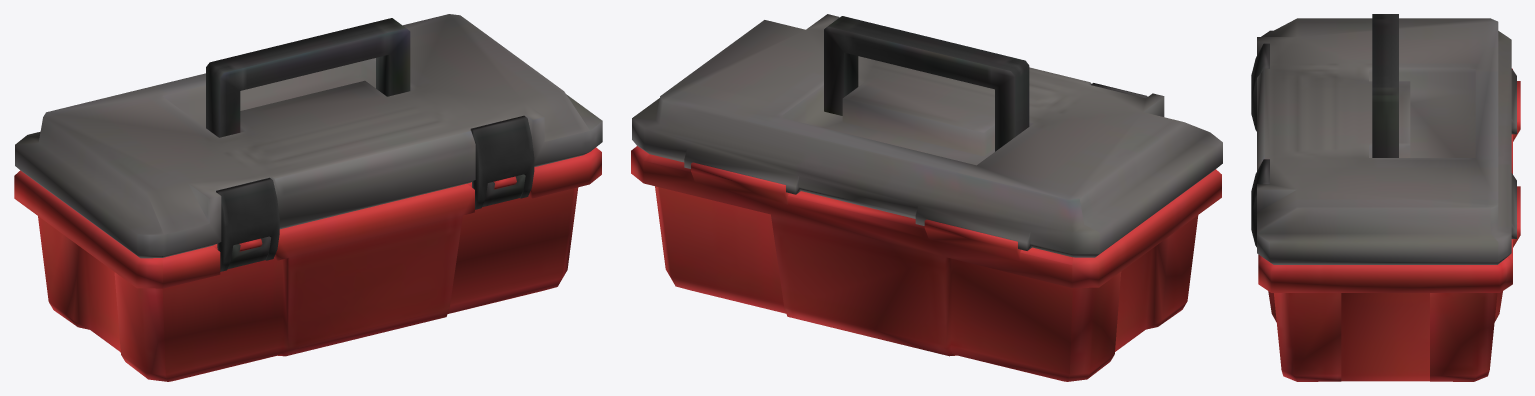
3 views of the same model, side by side, from view 1: azimuth 30°, elevation 25°; view 2: azimuth 150°, elevation 25°; view 3: azimuth 270°, elevation 25° (orthographic). The views are drawn at different scales.
Bounding box in the file's own units: 8.68 × 4.54 × 4.67.
Materials: 4 (4 with a texture image).
